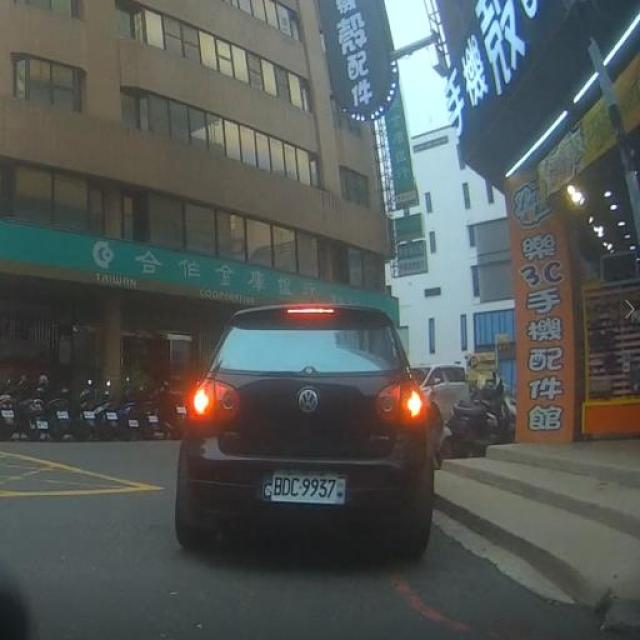Legalparking: (0, 382, 180, 438), (448, 372, 508, 452)
illegalparking: (175, 302, 440, 559)
